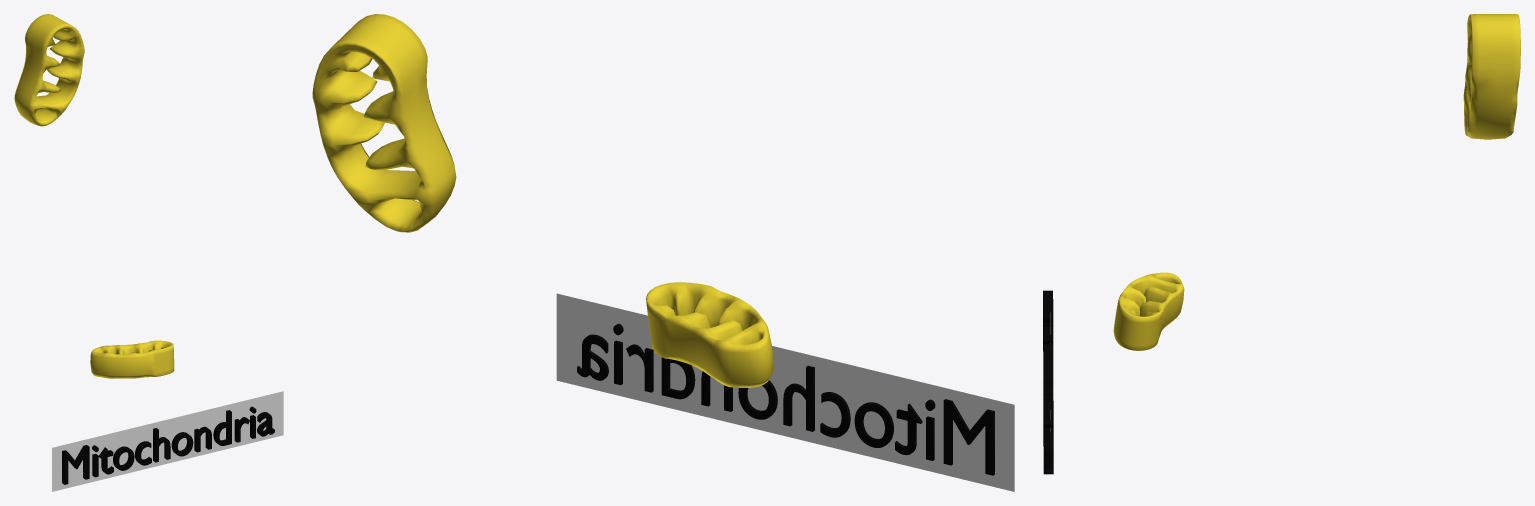
File: mitochondria.gltf
The picture shows the model from 3 angles, left to right: view 1: azimuth 30°, elevation 25°; view 2: azimuth 150°, elevation 25°; view 3: azimuth 270°, elevation 25°; orthographic projection. The views are drawn at different scales.
Parts seen in each view (by area): view 1: Amarillo_Interno, Plane.004, Text.003; view 2: Amarillo_Interno, Plane.004, Text.003; view 3: Amarillo_Interno, Text.003.
Boxes of the visible parts, left/top/right/bottom form: Amarillo_Interno: left=14, top=14, right=174, bottom=378; Plane.004: left=52, top=391, right=283, bottom=491; Text.003: left=62, top=406, right=274, bottom=484; Amarillo_Interno: left=312, top=14, right=773, bottom=387; Plane.004: left=556, top=293, right=1014, bottom=491; Text.003: left=577, top=323, right=994, bottom=475; Amarillo_Interno: left=1113, top=14, right=1520, bottom=350; Text.003: left=1043, top=290, right=1053, bottom=474.
Size of the model in its own units: 1.33 by 1.73 by 1.74.
